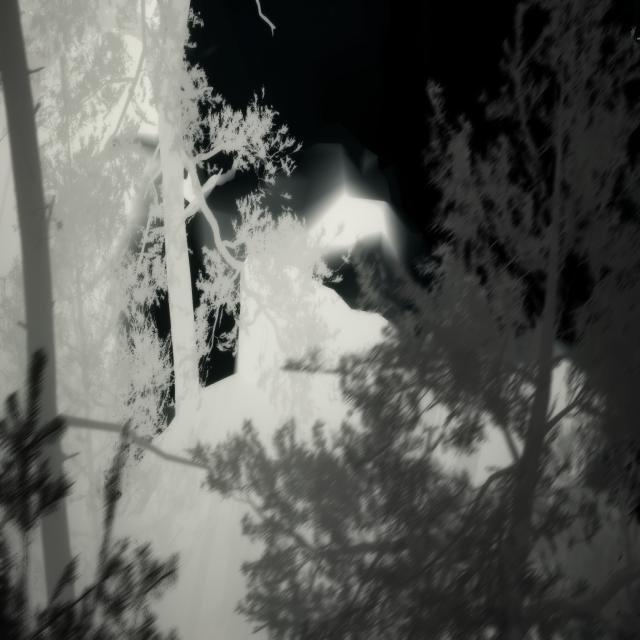Human: (175, 161, 228, 208)
